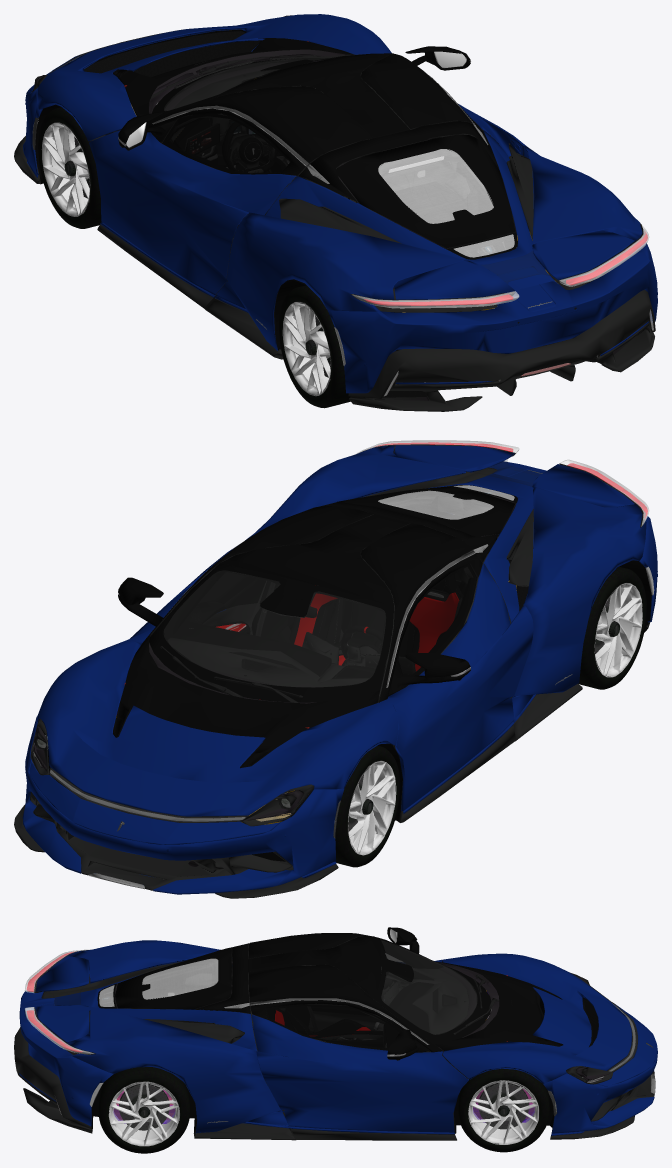
File: 2023_pininfarina_battista.glb
3 views of the same model, one above another, from view 1: azimuth 30°, elevation 25°; view 2: azimuth 150°, elevation 25°; view 3: azimuth 270°, elevation 25° (orthographic). The views are drawn at different scales.
Visible parts, largest first — view 1: Object_50, Object_6, Object_58, Object_68, Object_27, Object_70, Object_45, Object_55, Object_19, Object_12, Object_63, Object_26 (+5 smaller); view 2: Object_50, Object_6, Object_58, Object_26, Object_63, Object_68, Object_70, Object_45, Object_55, Object_11, Object_27, Object_10 (+5 smaller); view 3: Object_50, Object_6, Object_58, Object_70, Object_26, Object_68, Object_45, Object_63, Object_55, Object_27, Object_71, Object_19 (+6 smaller).
Part boxes in pixels (x1=…): Object_50: x1=23, y1=14, x2=657, y2=393; Object_6: x1=35, y1=29, x2=650, y2=399; Object_58: x1=14, y1=54, x2=655, y2=411; Object_68: x1=41, y1=122, x2=330, y2=396; Object_27: x1=378, y1=149, x2=514, y2=257; Object_70: x1=38, y1=107, x2=350, y2=408; Object_45: x1=162, y1=114, x2=290, y2=174; Object_55: x1=34, y1=15, x2=641, y2=400; Object_19: x1=334, y1=225, x2=653, y2=396; Object_12: x1=394, y1=163, x2=493, y2=223; Object_63: x1=167, y1=88, x2=428, y2=199; Object_26: x1=164, y1=54, x2=361, y2=111; Object_50: x1=22, y1=445, x2=657, y2=894; Object_6: x1=35, y1=449, x2=651, y2=876; Object_58: x1=14, y1=450, x2=651, y2=898; Object_26: x1=163, y1=570, x2=385, y2=687; Object_63: x1=164, y1=556, x2=475, y2=702; Object_68: x1=348, y1=583, x2=642, y2=855; Object_70: x1=335, y1=567, x2=646, y2=867; Object_45: x1=397, y1=564, x2=477, y2=686; Object_55: x1=33, y1=470, x2=571, y2=866; Object_11: x1=294, y1=593, x2=458, y2=670; Object_27: x1=378, y1=485, x2=514, y2=519; Object_10: x1=35, y1=738, x2=340, y2=837; Object_50: x1=19, y1=940, x2=657, y2=1135; Object_6: x1=37, y1=927, x2=598, y2=1136; Object_58: x1=14, y1=935, x2=654, y2=1140; Object_70: x1=98, y1=1067, x2=549, y2=1153; Object_26: x1=381, y1=940, x2=477, y2=1034; Object_68: x1=108, y1=1080, x2=538, y2=1146; Object_45: x1=265, y1=953, x2=405, y2=1050; Object_63: x1=259, y1=941, x2=442, y2=1048; Object_55: x1=17, y1=929, x2=652, y2=1122; Object_27: x1=99, y1=958, x2=218, y2=1006; Object_71: x1=119, y1=1082, x2=529, y2=1130; Object_19: x1=24, y1=949, x2=103, y2=1114.
Size of what is drawn, in the model's own units: 8.77 by 4.69 by 19.17.
Materials: 50 (33 with a texture image).
